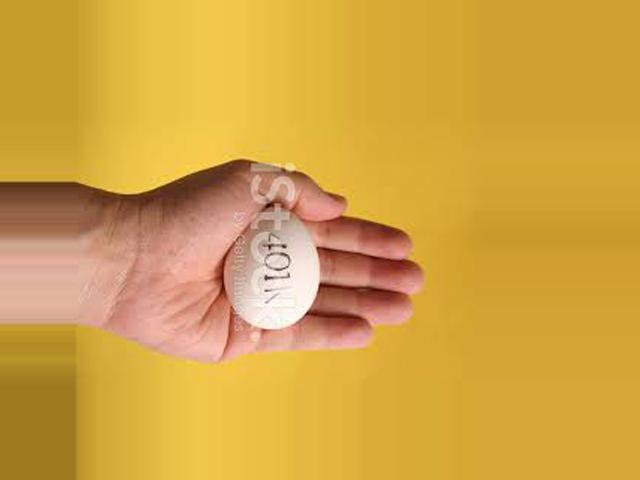egg: (224, 206, 318, 329)
